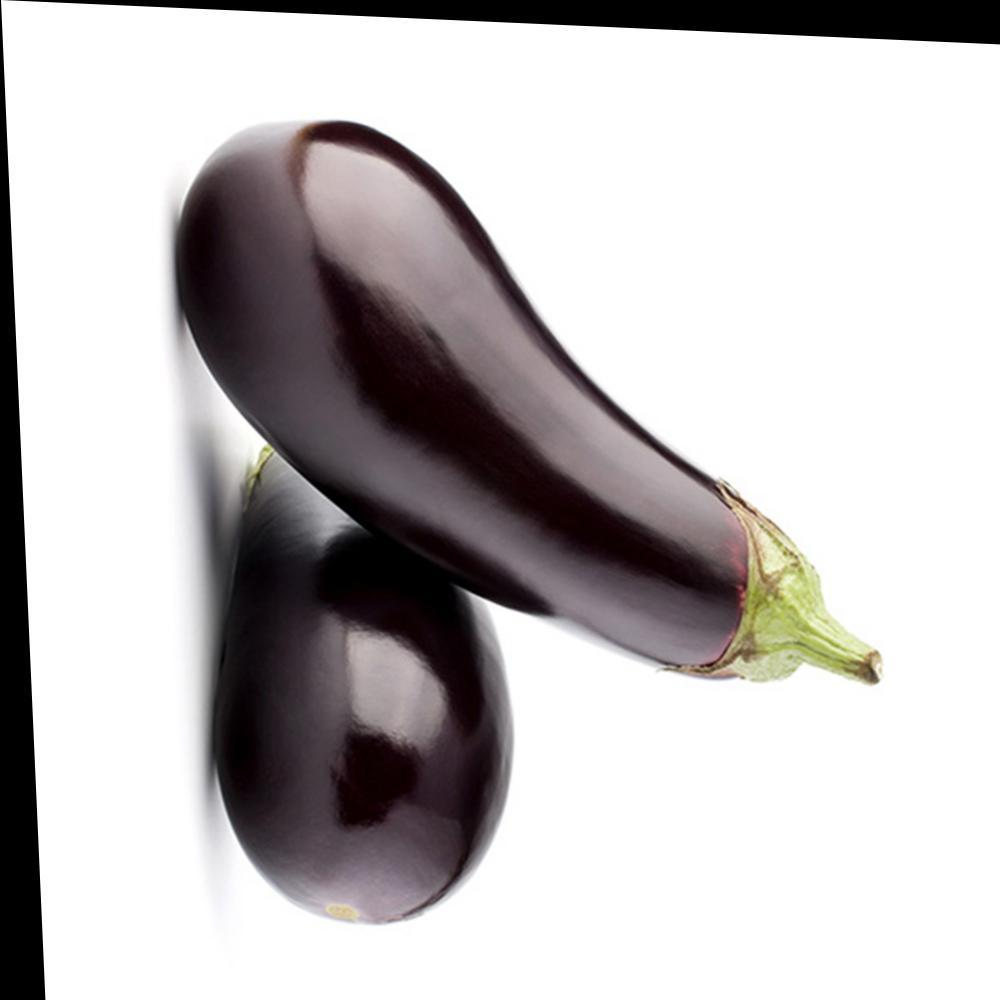eggplant: (73, 57, 890, 940)
